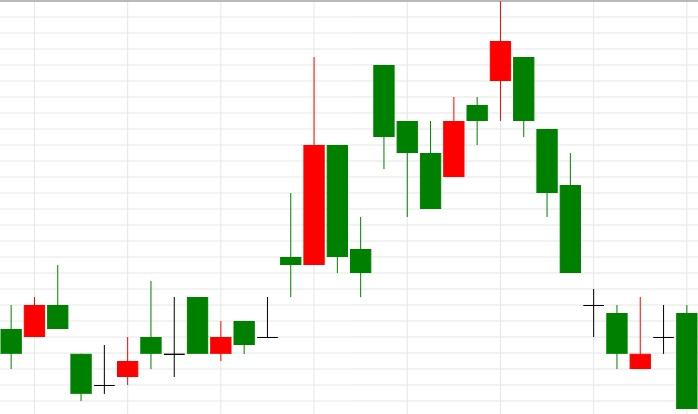inverse_hammer_rise: (489, 0, 652, 370)
